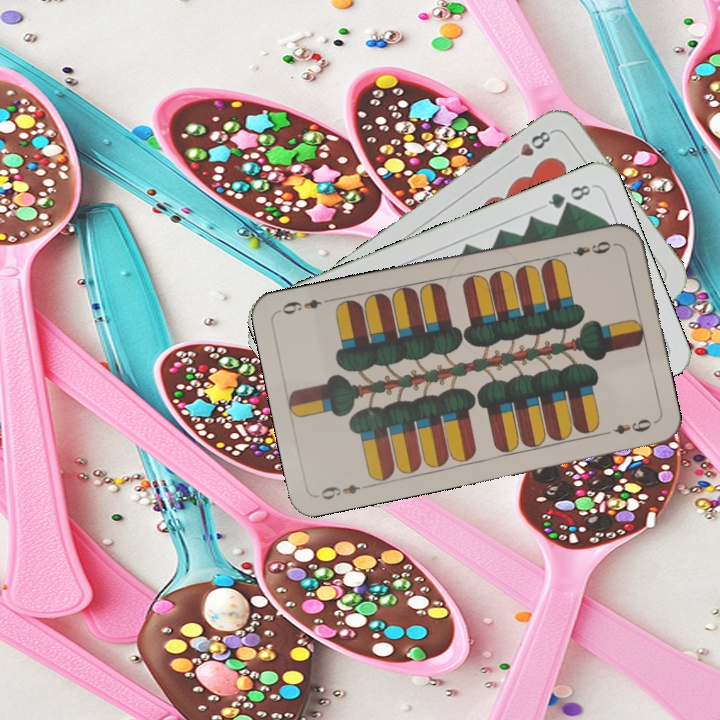E9: (316, 480, 372, 502), (560, 237, 614, 259)
G8: (543, 180, 594, 212)
H8: (505, 126, 556, 166)
